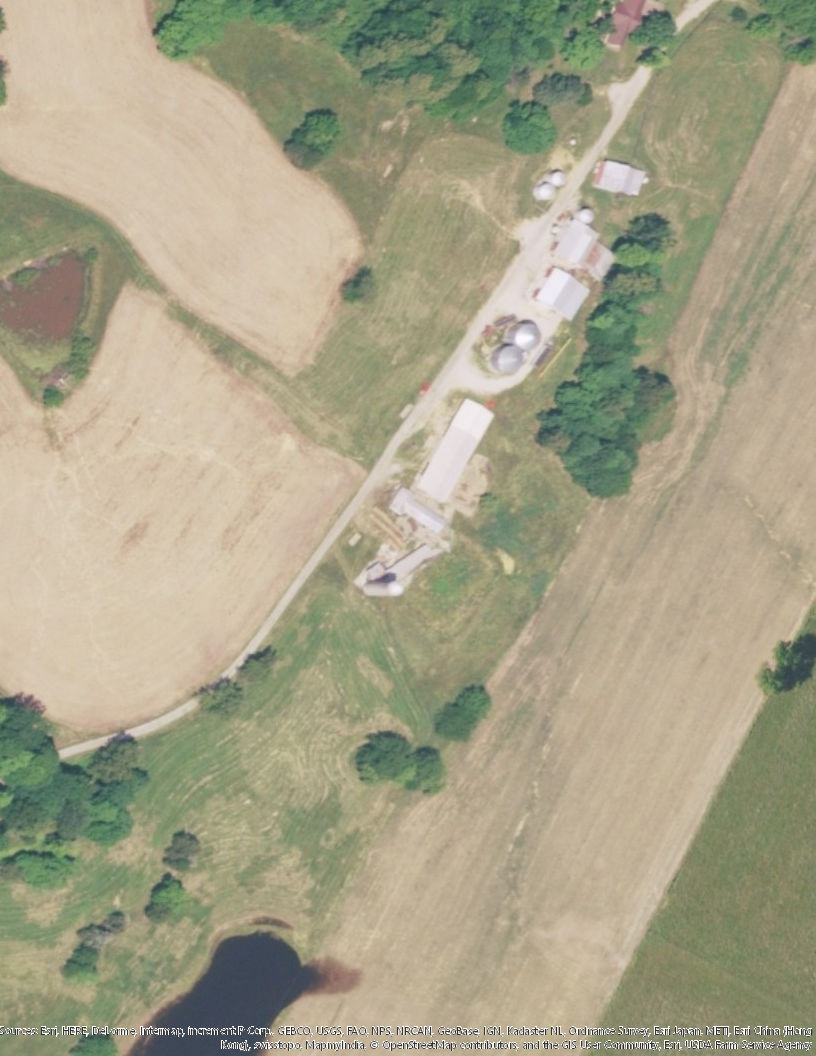cafo: (418, 393, 499, 502)
